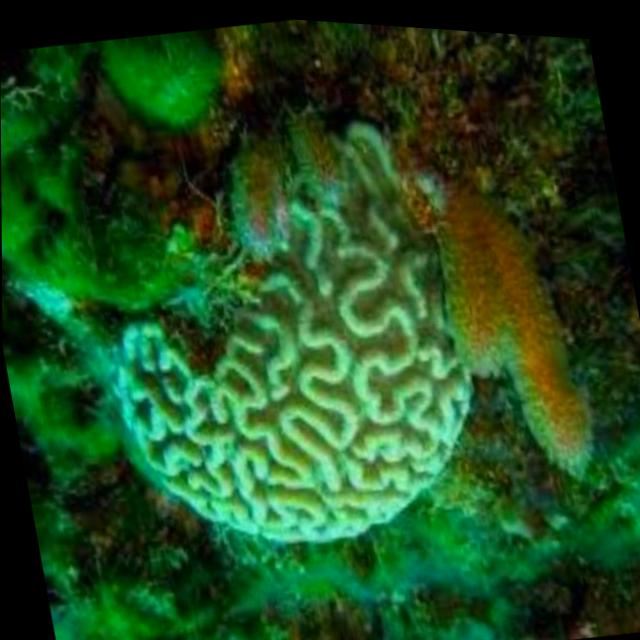Healthy Coral: (17, 58, 549, 607)
